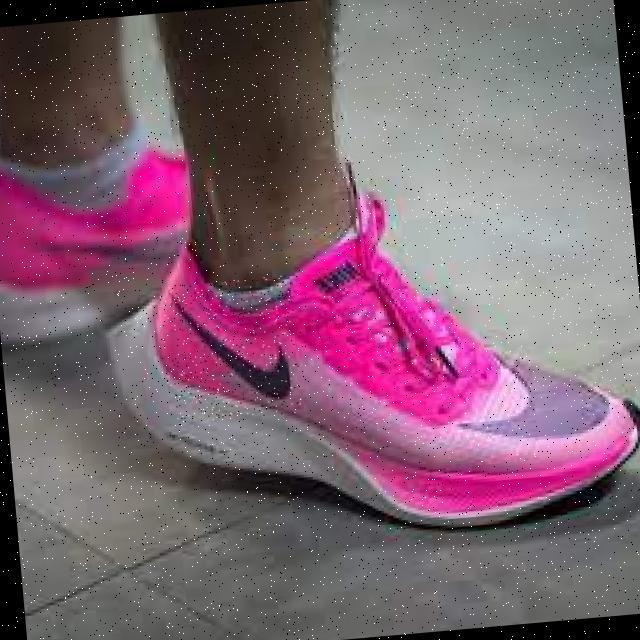Nike: (158, 275, 301, 423)
